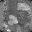people: (8, 15, 18, 25)
